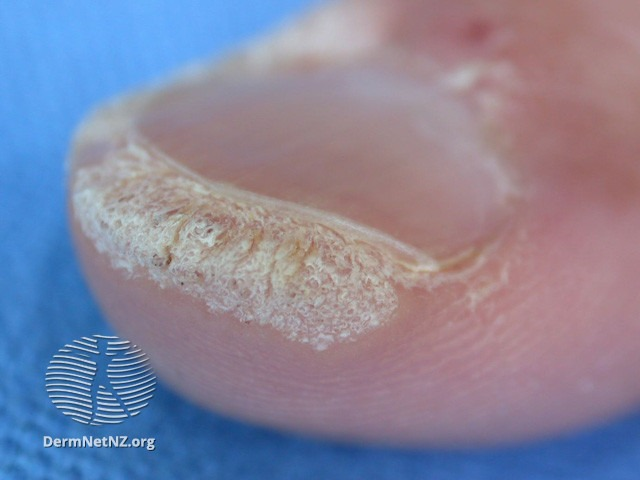Warts: (71, 130, 451, 349)
